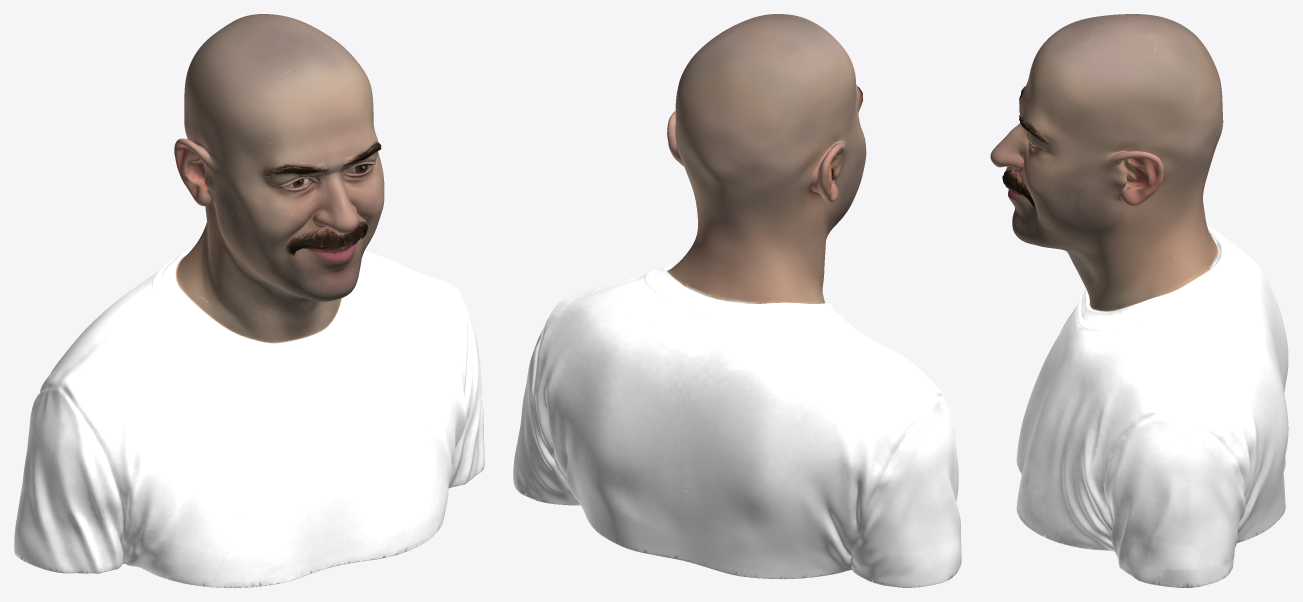
The model's file is santi-head.glb.
The picture shows the model from 3 angles, left to right: view 1: azimuth 30°, elevation 25°; view 2: azimuth 150°, elevation 25°; view 3: azimuth 270°, elevation 25°; orthographic projection. The views are drawn at different scales.
Size of the model in its own units: 1.82 by 1.9 by 1.11.
Materials: 1 (1 with a texture image).
